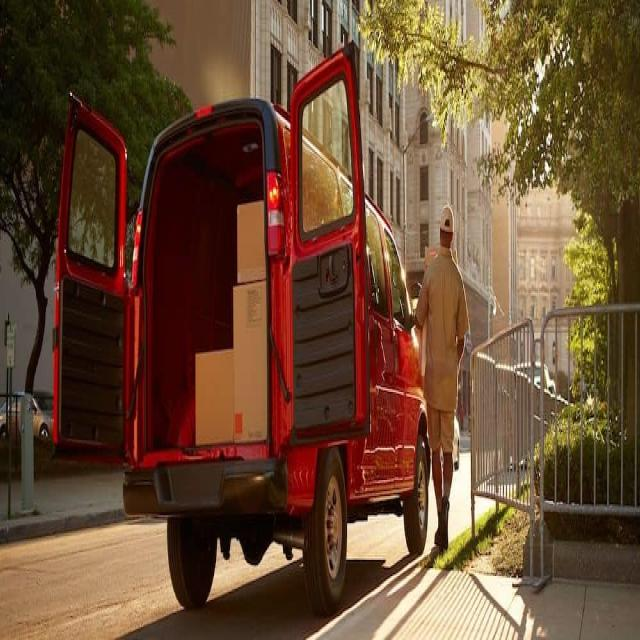truck: (51, 40, 438, 616)
